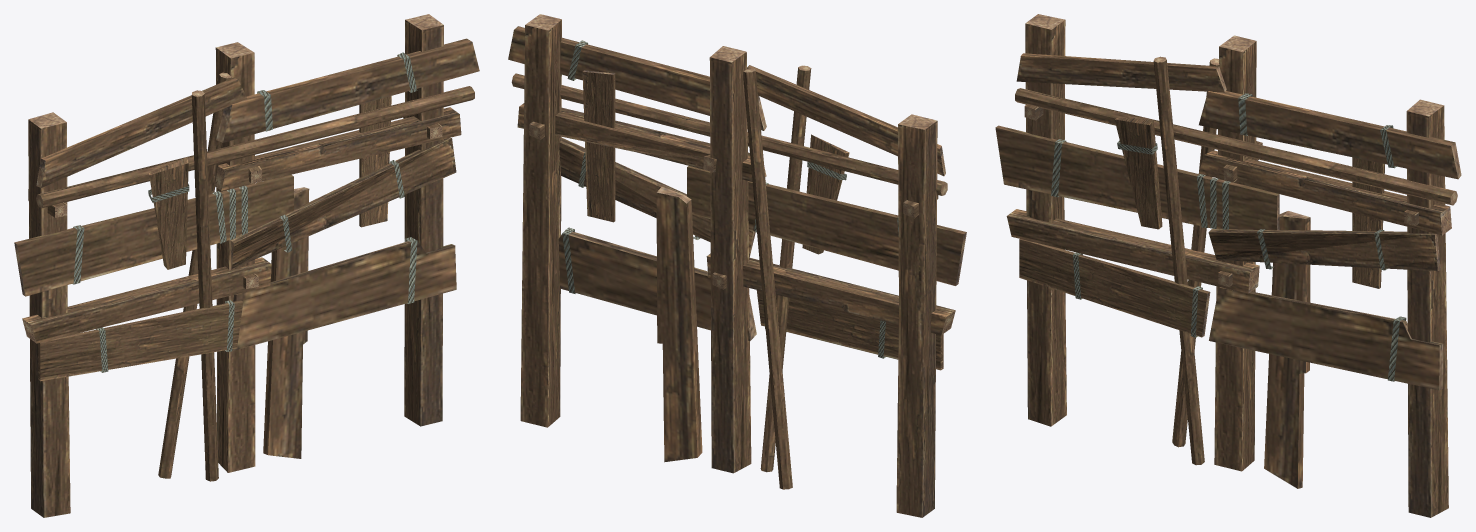
File: environment_stone_shitai_001_c.FBX
3 renders of one model, left to right at view 1: azimuth 30°, elevation 25°; view 2: azimuth 150°, elevation 25°; view 3: azimuth 330°, elevation 25°, orthographic.
Visible parts, largest first — view 1: environment_stone_shitai_001_c; view 2: environment_stone_shitai_001_c; view 3: environment_stone_shitai_001_c.
Part boxes in pixels (x1,y1,x2,y2): environment_stone_shitai_001_c: (14,14,479,517); environment_stone_shitai_001_c: (508,14,966,517); environment_stone_shitai_001_c: (995,14,1461,517).
Bounding box in the file's own units: 455 × 401 × 57.1.
Materials: 1 (1 with a texture image).
